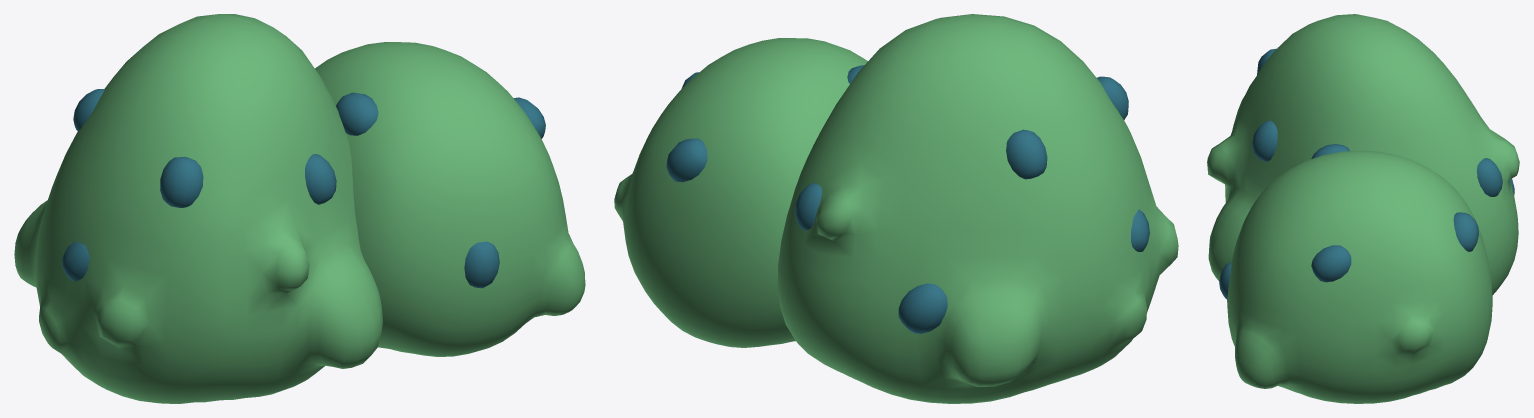
Rendered from Bush_Berry_02.dae.
3 views of the same model, side by side, from view 1: azimuth 30°, elevation 25°; view 2: azimuth 150°, elevation 25°; view 3: azimuth 270°, elevation 25° (orthographic). The views are drawn at different scales.
Parts seen in each view (by area): view 1: Bush_Berry_02_LOD0; view 2: Bush_Berry_02_LOD0; view 3: Bush_Berry_02_LOD0.
Boxes of the visible parts, x1,y1,x2,y2 form: Bush_Berry_02_LOD0: (14,14,585,403); Bush_Berry_02_LOD0: (614,14,1178,403); Bush_Berry_02_LOD0: (1207,14,1519,403).
Size of what is drawn, in the model's own units: 8.26 by 5.51 by 5.26.
